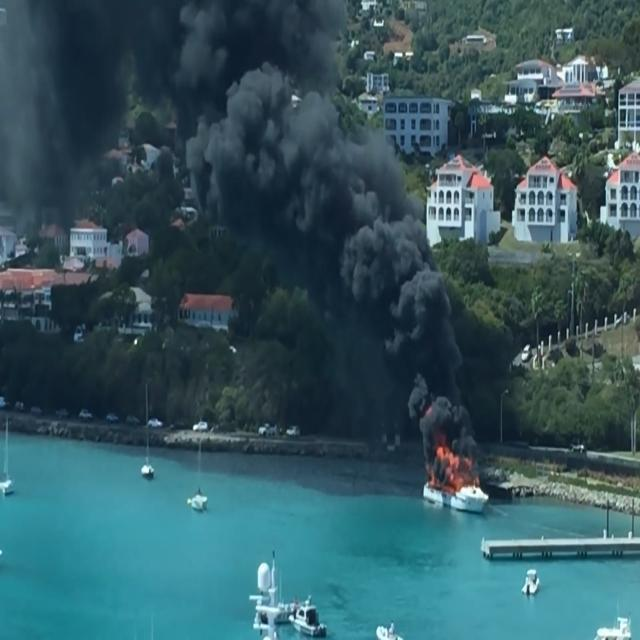Smoke: (186, 1, 332, 207), (316, 141, 421, 298), (389, 275, 471, 445)
